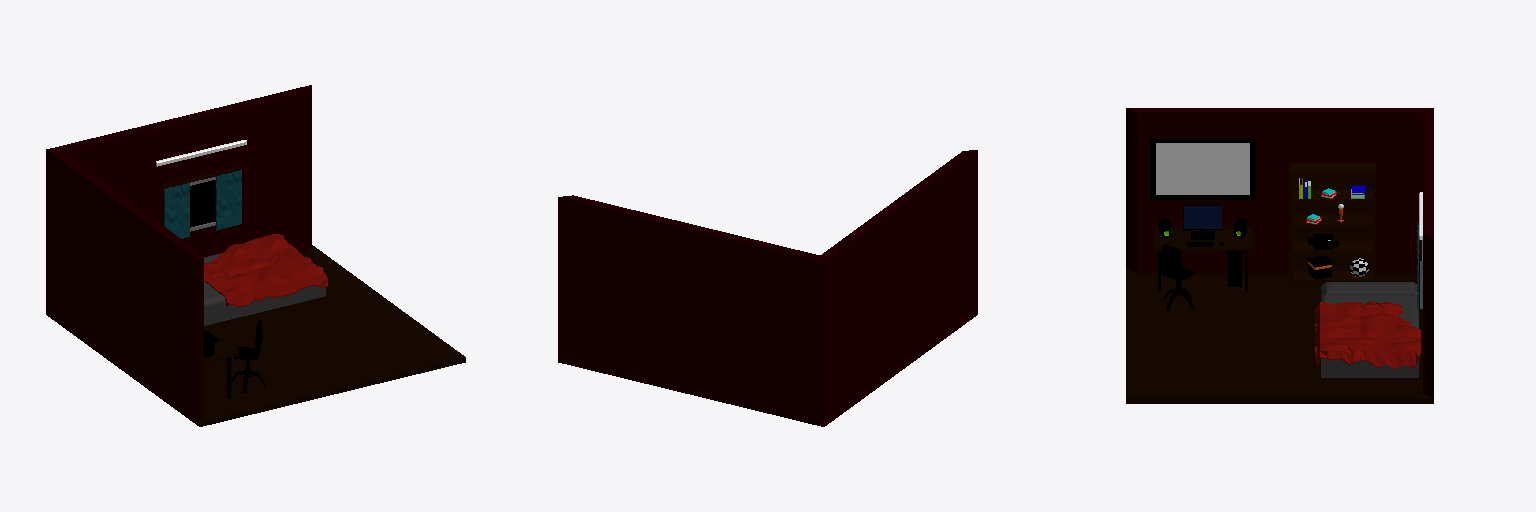
File: Room.obj
The picture shows the model from 3 angles: view 1: azimuth 30°, elevation 25°; view 2: azimuth 150°, elevation 25°; view 3: azimuth 270°, elevation 25°; orthographic projection.
Parts seen in each view (by area): view 1: Plane, Plane.001, Plane.003, Cube.028_Cube.037, Cube.011_Cube.016; view 2: Plane; view 3: Plane, Cube.012_Cube.017, Cube.032_Cube.042, Plane.001, Cube.028_Cube.037, Cube_Cube.001, Cube.005_Cube.010, Cube.011_Cube.016.
Boxes of the visible parts, x1,y1,x2,y2 form: Plane: [46, 85, 465, 426]; Plane.001: [204, 234, 327, 306]; Plane.003: [162, 167, 241, 238]; Cube.028_Cube.037: [204, 254, 325, 325]; Cube.011_Cube.016: [231, 320, 265, 392]; Plane: [558, 150, 977, 426]; Plane: [1126, 108, 1433, 403]; Cube.012_Cube.017: [1290, 163, 1375, 282]; Cube.032_Cube.042: [1150, 138, 1255, 199]; Plane.001: [1315, 301, 1421, 368]; Cube.028_Cube.037: [1321, 282, 1418, 377]; Cube_Cube.001: [1155, 227, 1252, 250]; Cube.005_Cube.010: [1183, 205, 1221, 239]; Cube.011_Cube.016: [1160, 244, 1194, 310].
Size of the model in its own units: 5.93 by 3.53 by 5.93.